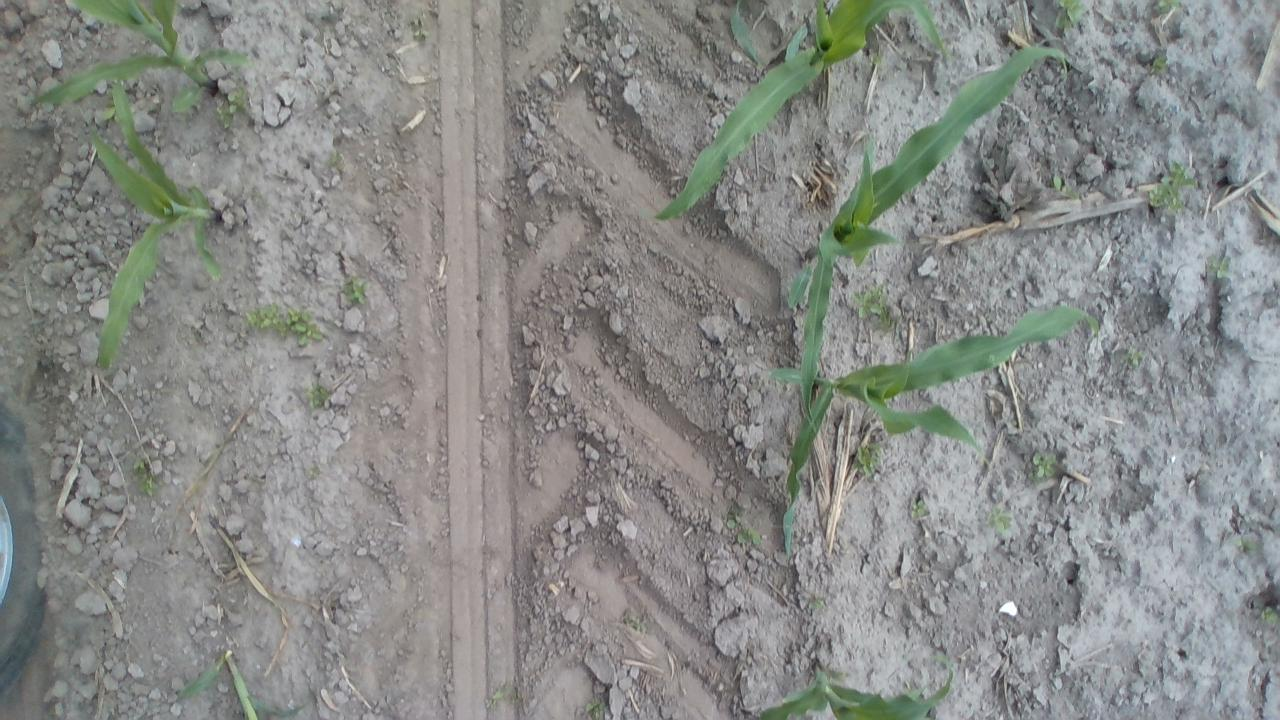Maize: (779, 34, 1076, 411), (760, 298, 1096, 566), (644, 0, 940, 233), (87, 71, 235, 376), (34, 0, 255, 118), (750, 655, 960, 720), (170, 640, 326, 719), (730, 0, 768, 70)
Weeds: (240, 302, 326, 346), (1144, 158, 1198, 218), (721, 504, 764, 552), (851, 284, 894, 328), (852, 438, 888, 480), (217, 85, 250, 127), (1050, 0, 1088, 35), (341, 272, 374, 308), (131, 458, 159, 500), (1028, 448, 1060, 484), (483, 682, 522, 711), (984, 504, 1016, 534), (1050, 172, 1080, 202), (1203, 254, 1234, 282), (622, 608, 652, 636), (304, 382, 332, 410), (578, 696, 610, 719), (406, 14, 428, 44), (1234, 532, 1259, 556), (1122, 343, 1146, 368), (323, 148, 346, 174), (1148, 51, 1172, 74), (908, 497, 930, 522), (1150, 1, 1186, 16), (865, 50, 889, 72), (1258, 601, 1276, 629), (931, 650, 956, 668), (804, 594, 828, 612), (306, 463, 322, 482)
